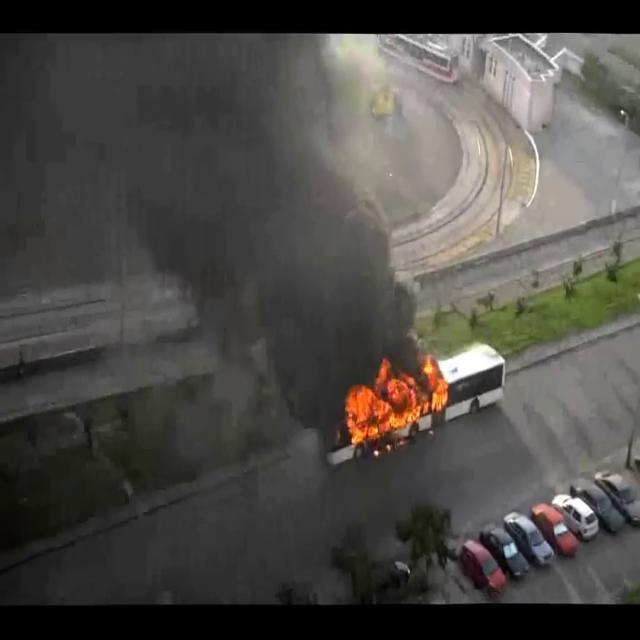Fire: (342, 352, 448, 449)
Smoke: (112, 32, 426, 408)
